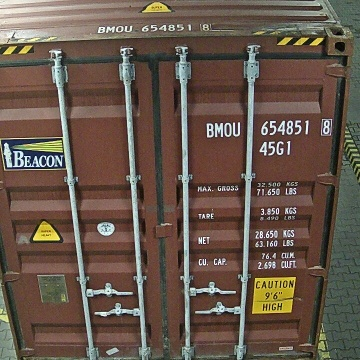serial_id: (207, 118, 332, 137)
